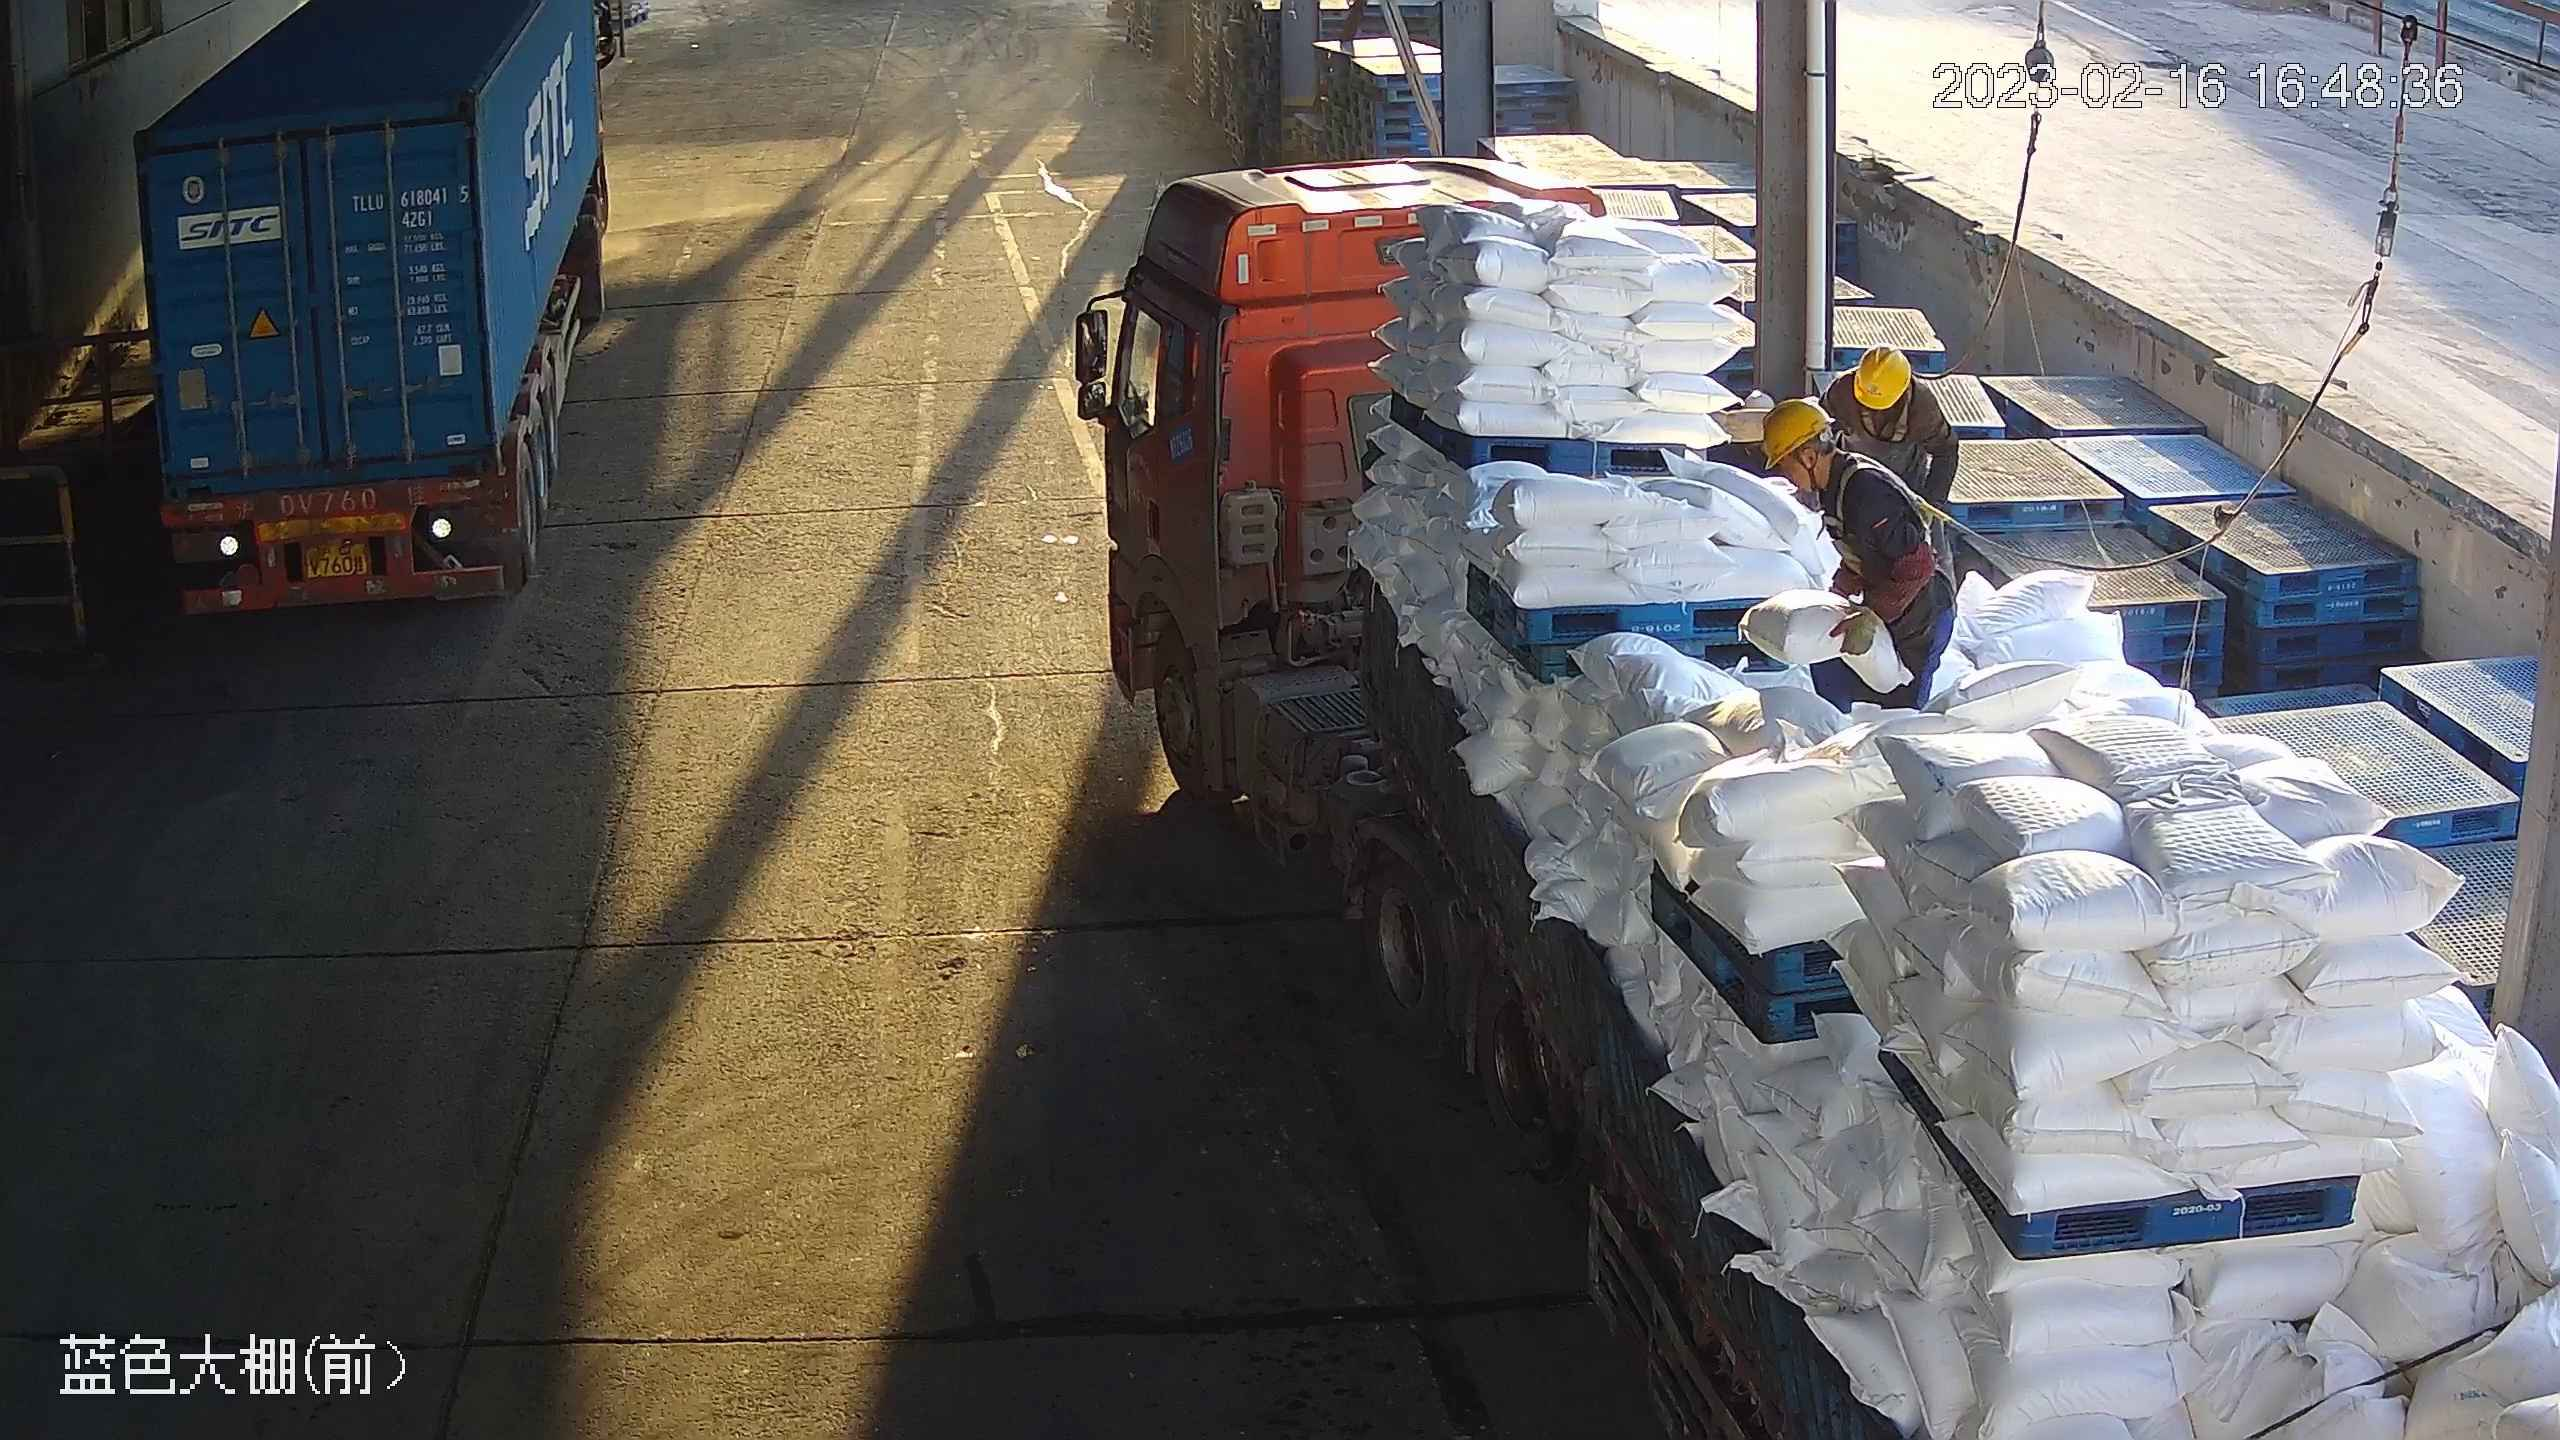belt: (1815, 451, 1935, 542), (1861, 378, 1914, 444)
head: (1760, 401, 1897, 523), (1829, 341, 1940, 425)
helmet: (1759, 399, 1836, 470), (1853, 343, 1910, 409)
people: (1760, 400, 1957, 710)
truck: (1076, 159, 2560, 1440), (131, 3, 623, 620)
